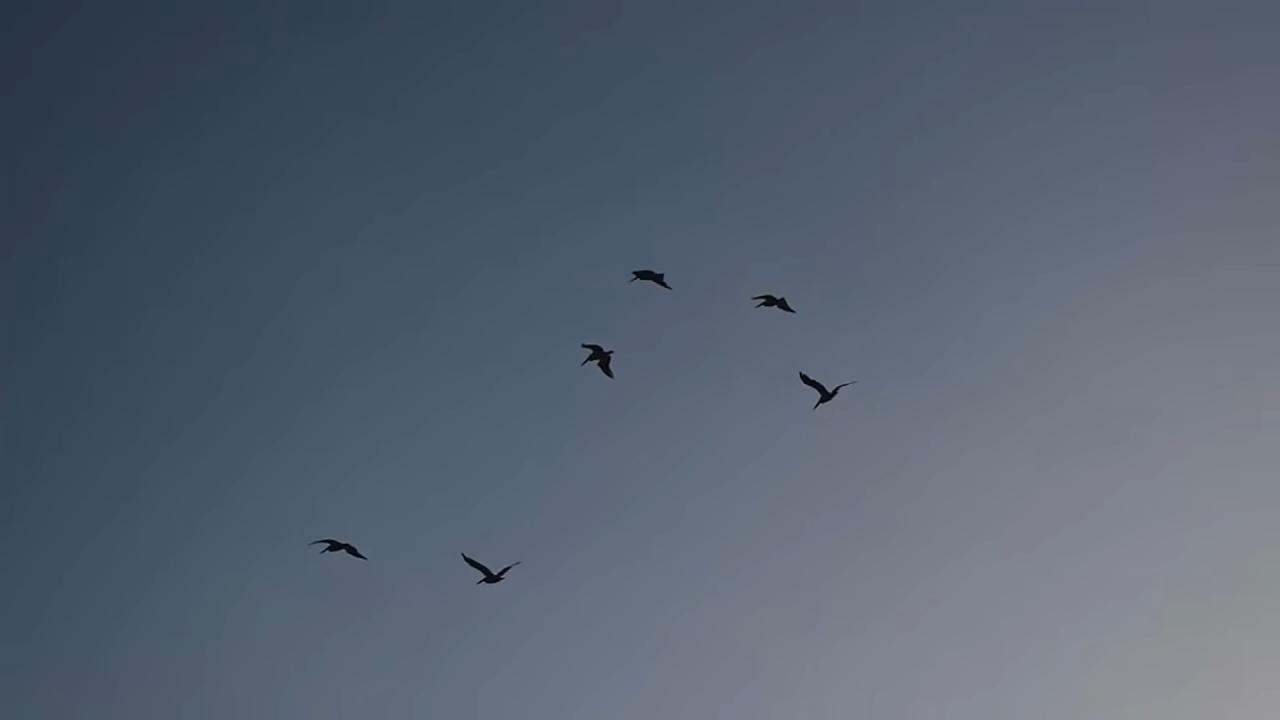Bird: (787, 362, 866, 419), (454, 547, 529, 598), (294, 532, 374, 570), (570, 335, 622, 384), (741, 285, 805, 322), (620, 262, 681, 300)
